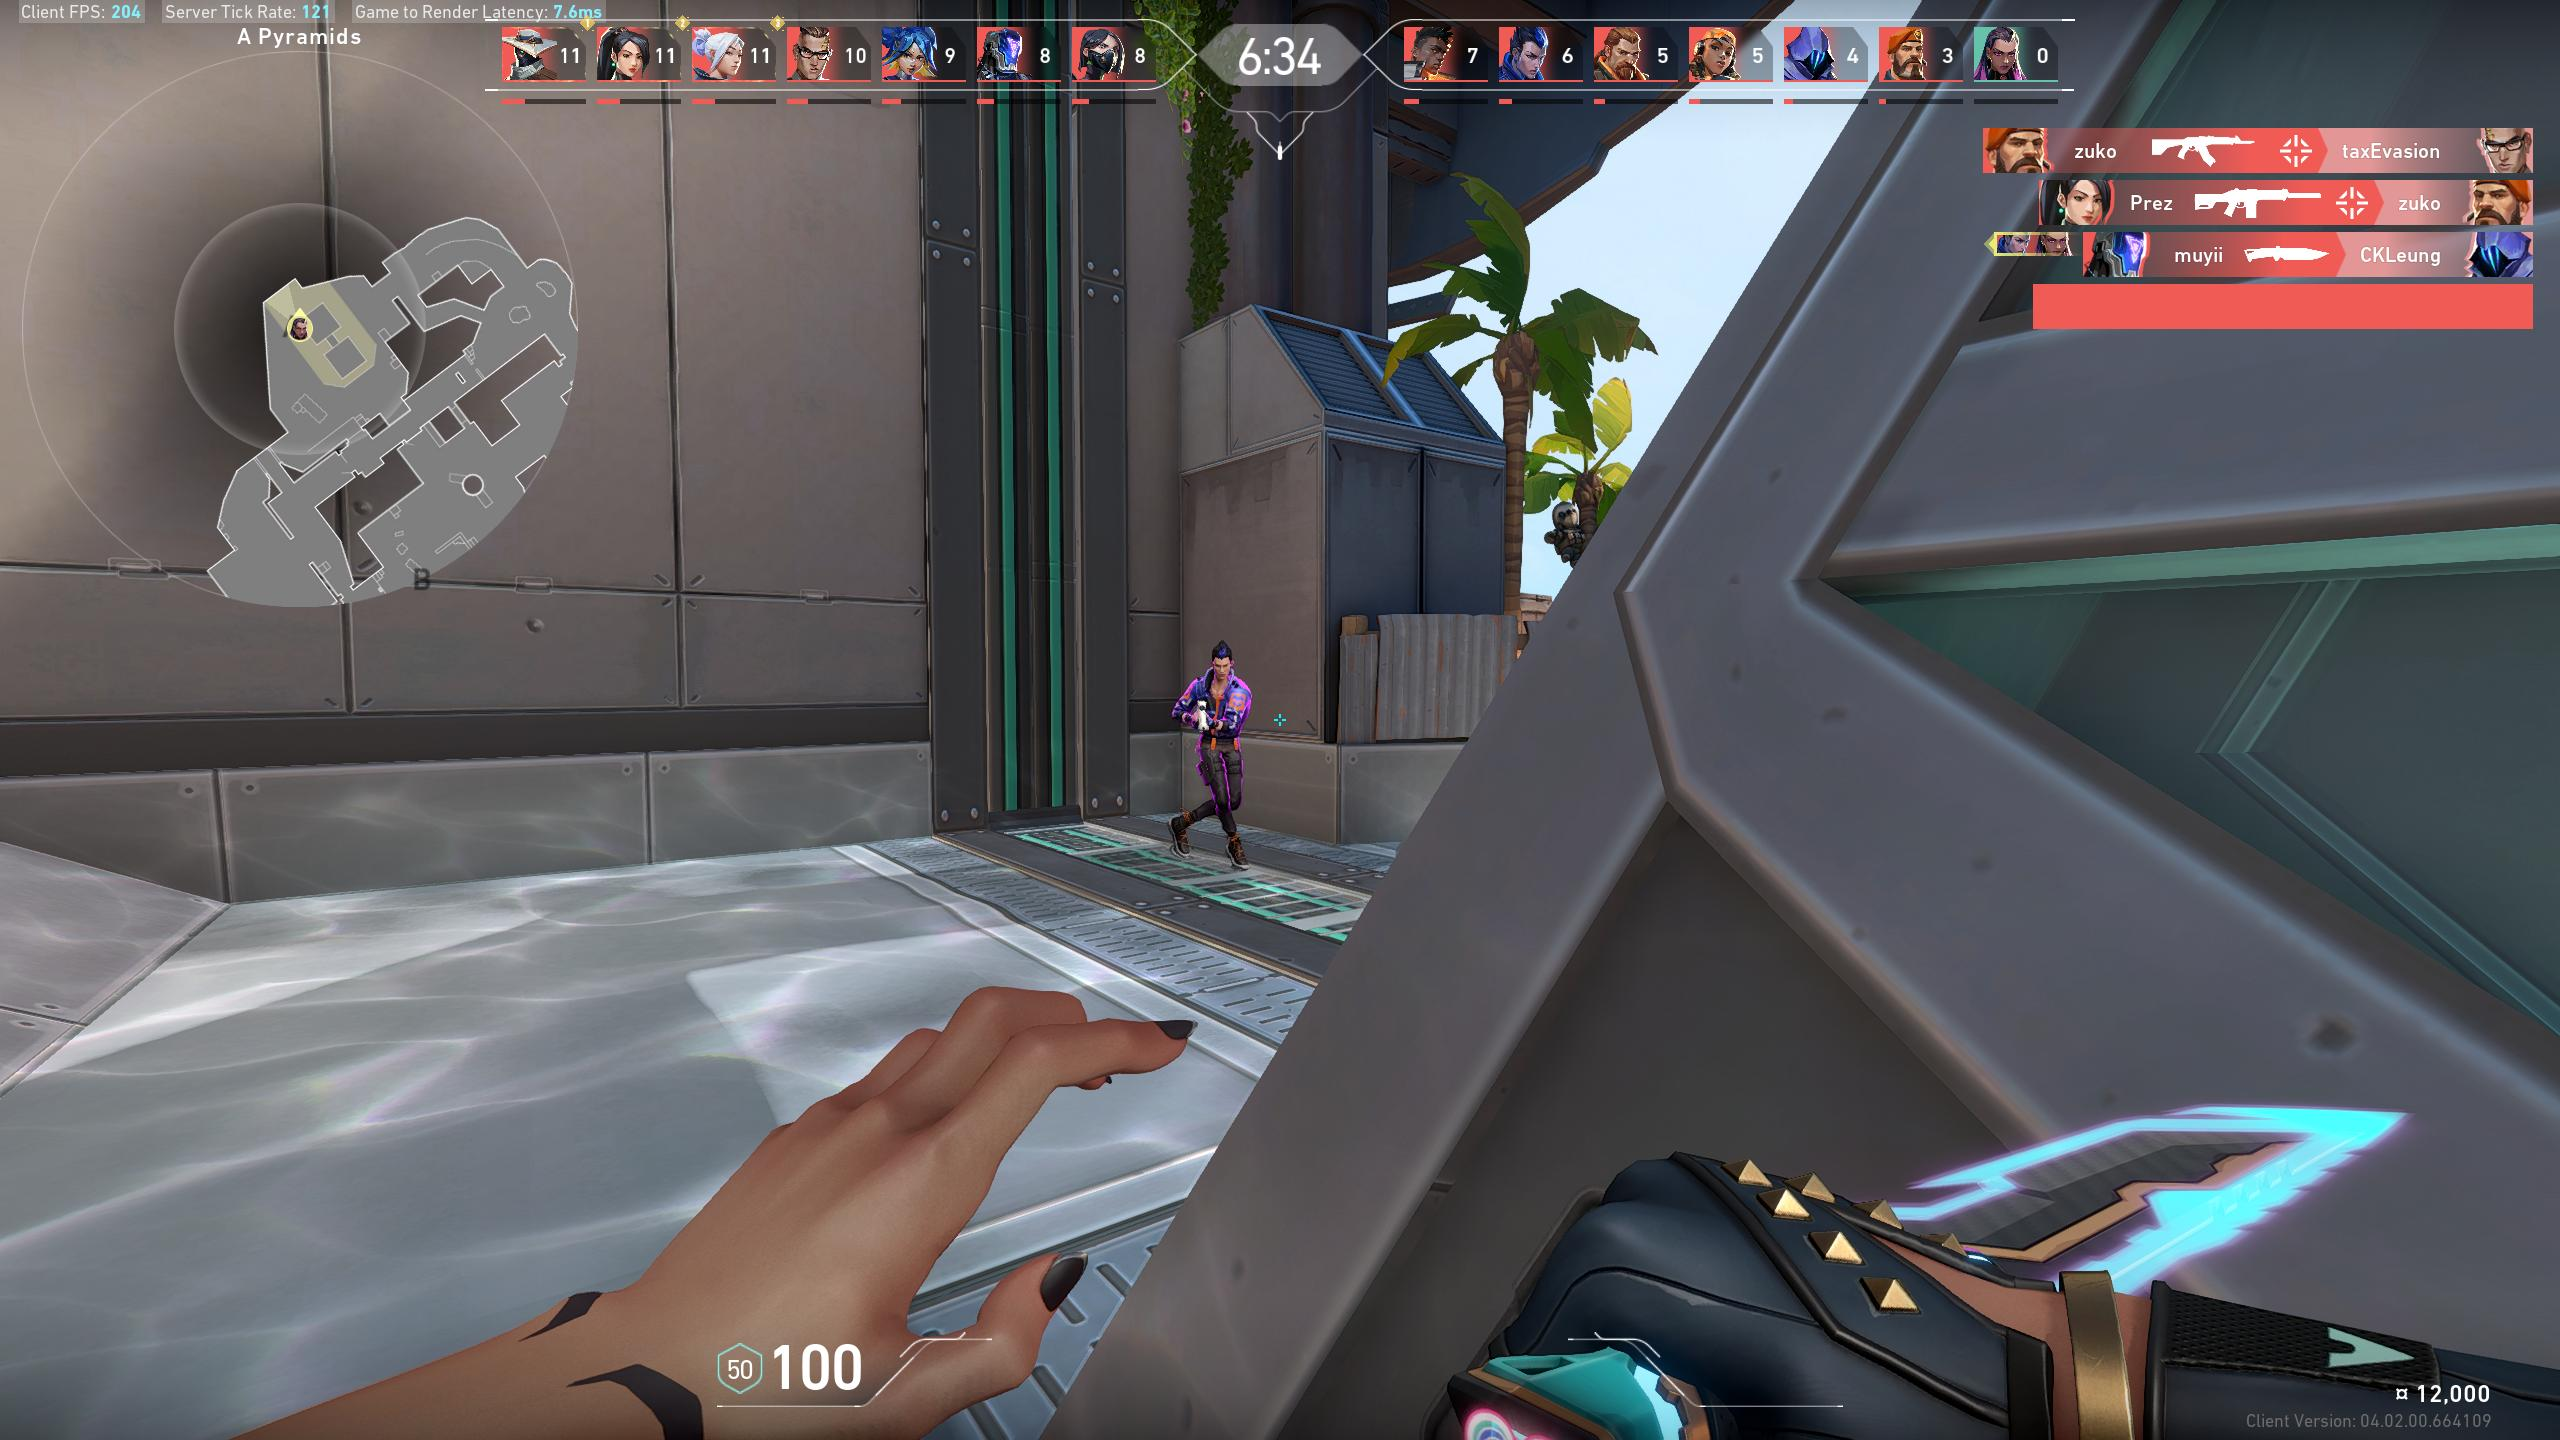enemyBody: (1204, 682, 1234, 735)
enemyHead: (1213, 656, 1229, 675)
